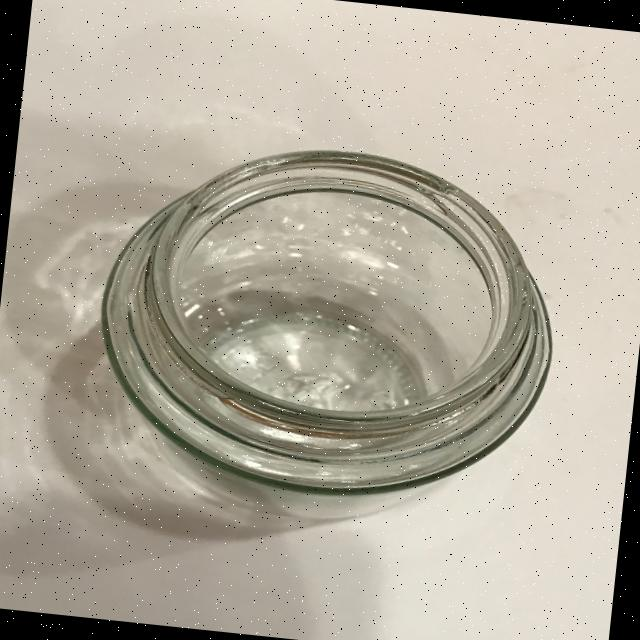glass: (83, 125, 572, 516)
